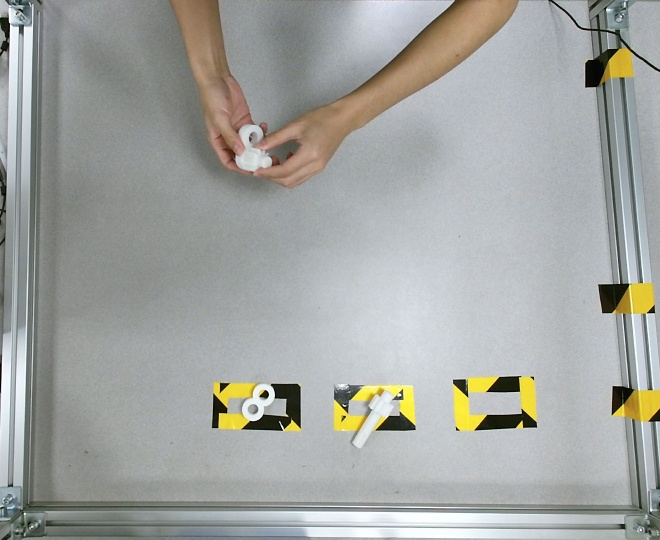stage_2: (235, 124, 272, 171)
